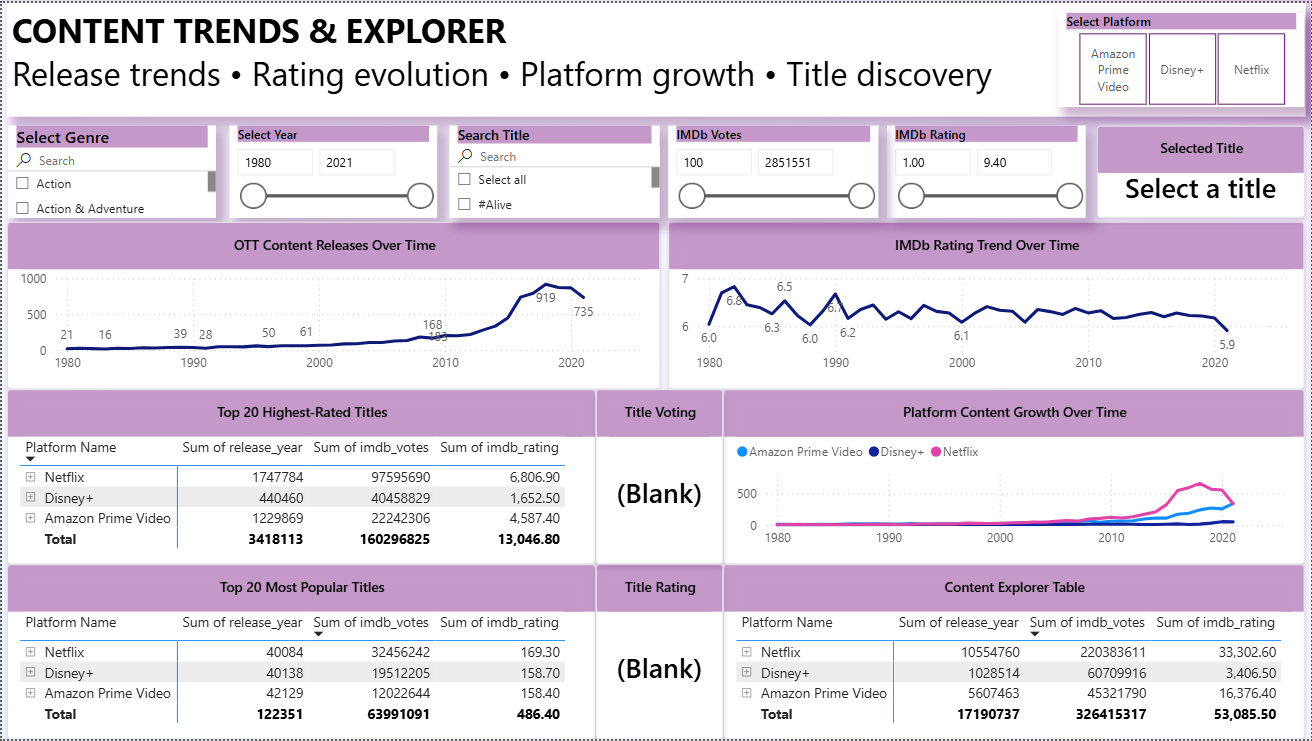

This screenshot's page, from the dashboard's own definition file:
{"tool":"powerbi","page":{"name":"Trends & Content Explorer","canvas":[1280,720],"ordinal":3},"visuals":[{"type":"textbox","box":[4.3,0,1270,111.4],"z":0},{"type":"slicer","fields":{"Values":["ott_movie_analysis platforms.platform_name"]},"box":[1033.3,9.8,240.9,91.7],"z":1000},{"type":"slicer","fields":{"Values":["ott_movie_analysis genres.genre_name"]},"box":[6.1,119.8,203,90.5],"z":2000},{"type":"slicer","fields":{"Values":["ott_movie_analysis titles.release_year"]},"box":[222.6,119.8,203,90.5],"z":3000},{"type":"lineChart","title":"OTT Content Releases Over Time","fields":{"Category":["ott_movie_analysis titles.release_year"],"Y":["ott_movie_analysis titles.Total Titles"]},"box":[4.9,214,639.5,163.9],"z":4000},{"type":"lineChart","title":"IMDb Rating Trend Over Time","fields":{"Category":["ott_movie_analysis titles.release_year"],"Y":["ott_movie_analysis titles.Average IMDb Rating"]},"box":[651.8,214,622.4,163.9],"z":5000},{"type":"lineChart","title":"Platform Content Growth Over Time","fields":{"Category":["ott_movie_analysis titles.release_year"],"Y":["ott_movie_analysis titles.Total Titles"],"Series":["ott_movie_analysis platforms.Platform Name"]},"box":[705.6,377.9,568.6,171.2],"z":6000},{"type":"pivotTable","title":"Top 20 Highest-Rated Titles","fields":{"Rows":["ott_movie_analysis platforms.Platform Name","ott_movie_analysis titles.title"],"Values":["Sum(ott_movie_analysis titles.release_year)","Sum(ott_movie_analysis titles.imdb_votes)","Sum(ott_movie_analysis titles.imdb_rating)"]},"box":[4.9,377.9,576,171.2],"z":7000},{"type":"pivotTable","title":"Top 20 Most Popular Titles","fields":{"Rows":["ott_movie_analysis platforms.Platform Name","ott_movie_analysis titles.title"],"Values":["Sum(ott_movie_analysis titles.release_year)","Sum(ott_movie_analysis titles.imdb_votes)","Sum(ott_movie_analysis titles.imdb_rating)"]},"box":[4.9,549.1,576,171.2],"z":8000},{"type":"pivotTable","title":"Content Explorer Table","fields":{"Rows":["ott_movie_analysis platforms.Platform Name","ott_movie_analysis titles.title"],"Values":["Sum(ott_movie_analysis titles.release_year)","Sum(ott_movie_analysis titles.imdb_votes)","Sum(ott_movie_analysis titles.imdb_rating)"]},"box":[705.6,549.1,568.6,171.2],"z":9000},{"type":"slicer","fields":{"Values":["ott_movie_analysis titles.title"]},"box":[437.8,119.8,205.4,90.5],"z":10000},{"type":"slicer","fields":{"Values":["ott_movie_analysis titles.imdb_rating"]},"box":[865.8,119.8,194.4,90.5],"z":11000},{"type":"slicer","fields":{"Values":["ott_movie_analysis titles.imdb_votes"]},"box":[651.8,119.8,205.4,90.5],"z":12000},{"type":"card","title":"Selected Title","fields":{"Values":["Performance Categories.Selected Title"]},"box":[1071.2,119.8,203,90.5],"z":13000},{"type":"card","title":"Title Rating","fields":{"Values":["Performance Categories.Selected Title Rating"]},"box":[580.8,549.1,124.7,171.2],"z":14000},{"type":"card","title":"Title Voting","fields":{"Values":["Performance Categories.Selected Title Votes"]},"box":[580.8,377.9,124.7,171.2],"z":15000}]}

Visuals, with their boxes in screenshot pixels (x1, y1, x2, y2), scaled from the page's 1280x720 canvas onto the 1312x741 screenshot:
textbox: region(4, 0, 1306, 115)
slicer - ott_movie_analysis platforms.platform_name: region(1059, 10, 1306, 104)
slicer - ott_movie_analysis genres.genre_name: region(6, 123, 214, 216)
slicer - ott_movie_analysis titles.release_year: region(228, 123, 436, 216)
"OTT Content Releases Over Time" lineChart: region(5, 220, 661, 389)
"IMDb Rating Trend Over Time" lineChart: region(668, 220, 1306, 389)
"Platform Content Growth Over Time" lineChart: region(723, 389, 1306, 565)
"Top 20 Highest-Rated Titles" pivotTable: region(5, 389, 595, 565)
"Top 20 Most Popular Titles" pivotTable: region(5, 565, 595, 740)
"Content Explorer Table" pivotTable: region(723, 565, 1306, 740)
slicer - ott_movie_analysis titles.title: region(449, 123, 659, 216)
slicer - ott_movie_analysis titles.imdb_rating: region(887, 123, 1087, 216)
slicer - ott_movie_analysis titles.imdb_votes: region(668, 123, 879, 216)
"Selected Title" card: region(1098, 123, 1306, 216)
"Title Rating" card: region(595, 565, 723, 740)
"Title Voting" card: region(595, 389, 723, 565)
